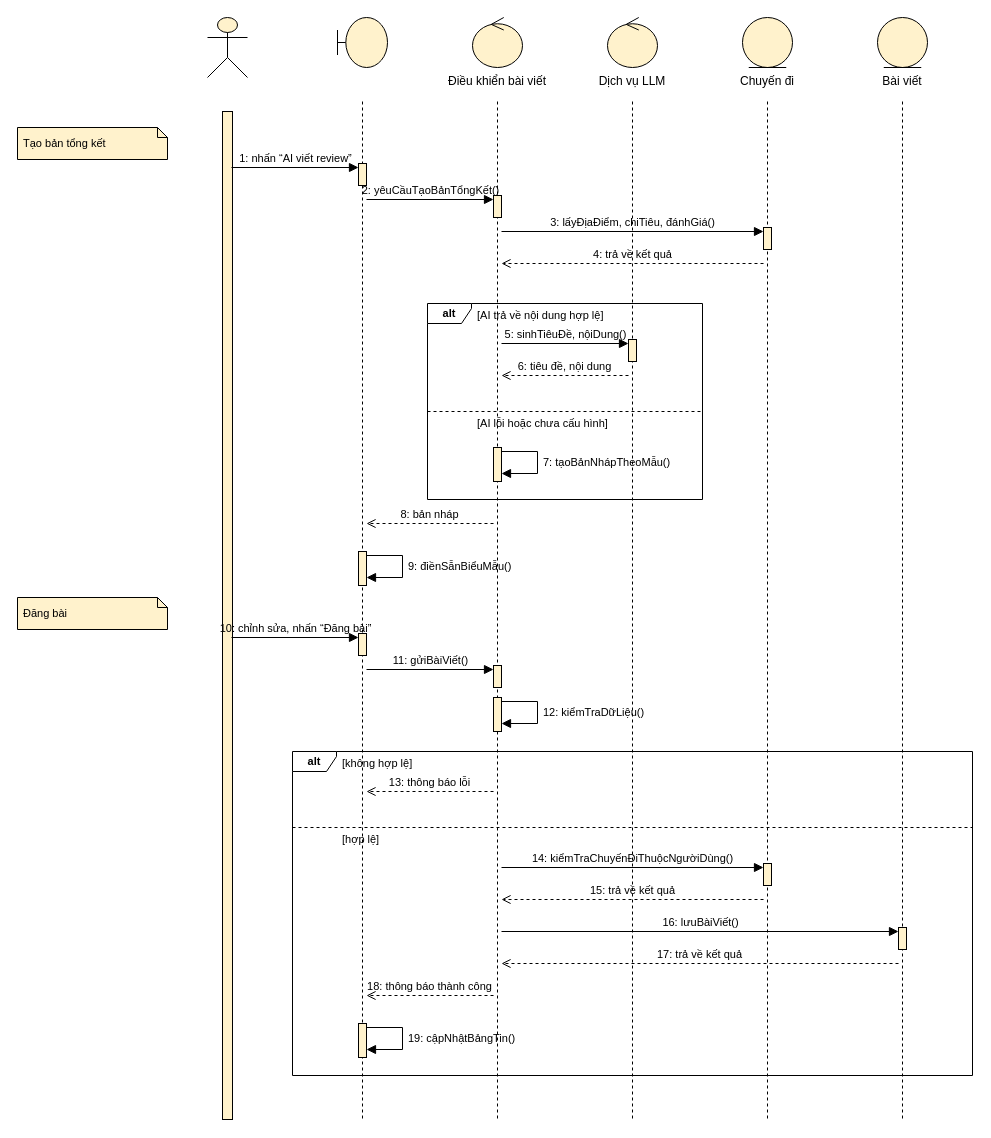
Some shapes in this 991 by 1138 pixel diagram are drawn without their labels. The centre of each missing label's shape, as x and y in pixels:
"Giao diện cộng đồng" belongs at [362,42].
"Người dùng" belongs at [227,47].
